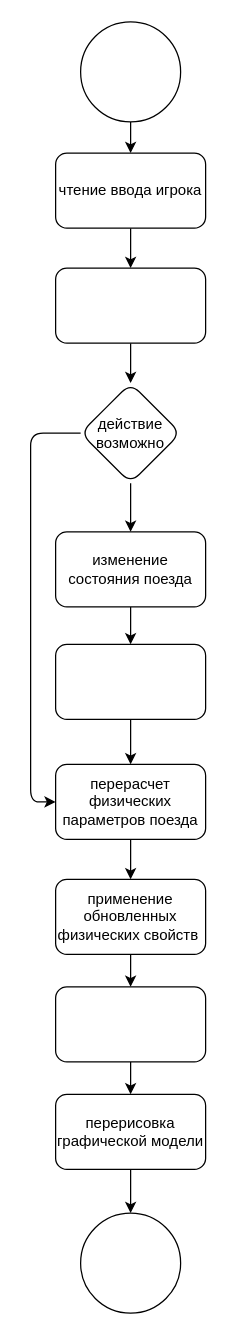
The diagram is 228 pixels wide and 1335 high, and some of its shapes have lost their labels. Here are the shapes that lost their labels. From the top down, the centre of each, then its label:
At (130,305): "преобразования в игровые команды".
At (130,681): "сигнал системе отображения о изменении состояния".
At (130,1024): "перемещение физических объектов поезда".
